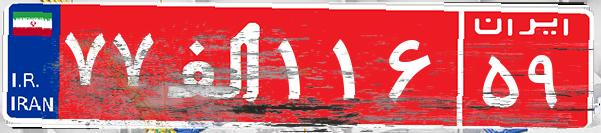1: (273, 28, 330, 110), (330, 28, 385, 110)
5: (475, 38, 525, 113)
6: (385, 28, 445, 110)
7: (57, 26, 110, 107), (110, 28, 158, 105)
9: (525, 38, 570, 115)
الف: (158, 15, 273, 115)
